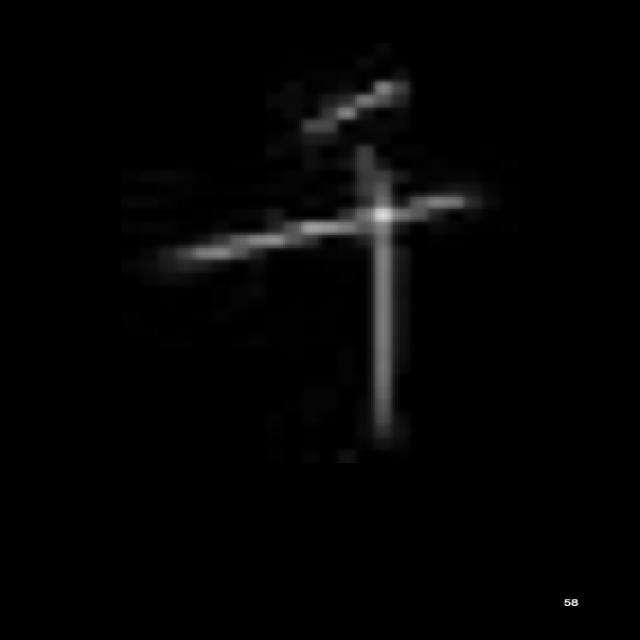1000 -a thousand-: (172, 67, 483, 452)
